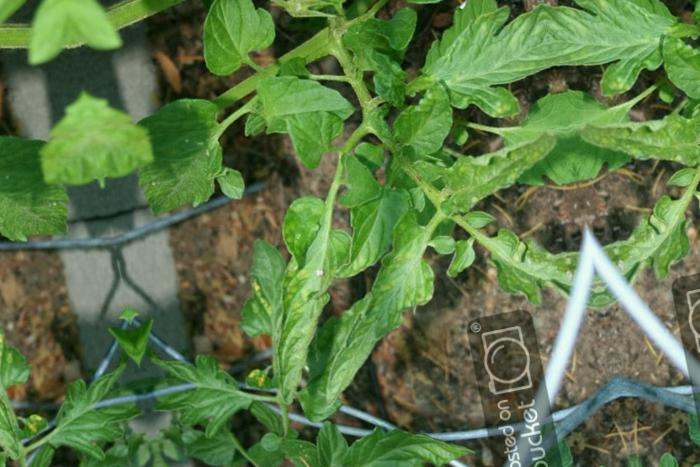Tomato leaf mosaic virus: (372, 0, 564, 149), (297, 236, 457, 401), (117, 84, 253, 224), (327, 401, 482, 467), (377, 81, 464, 180), (191, 0, 287, 80), (350, 0, 540, 33), (278, 96, 348, 170)
